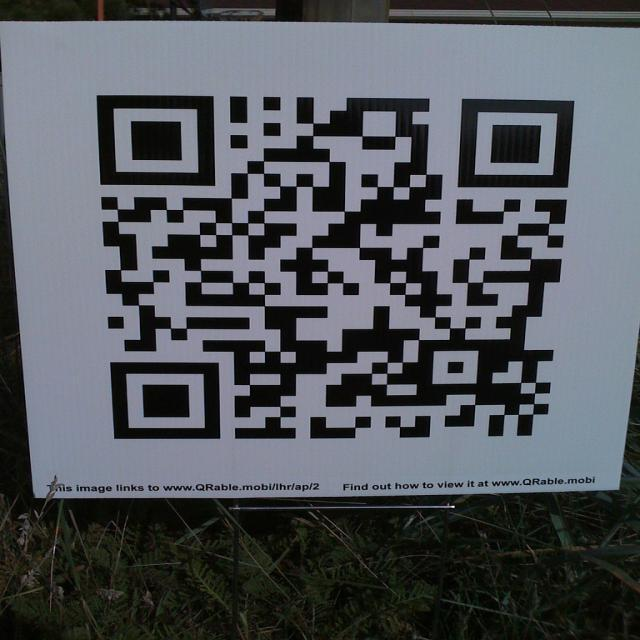qr-code: (96, 95, 574, 438)
